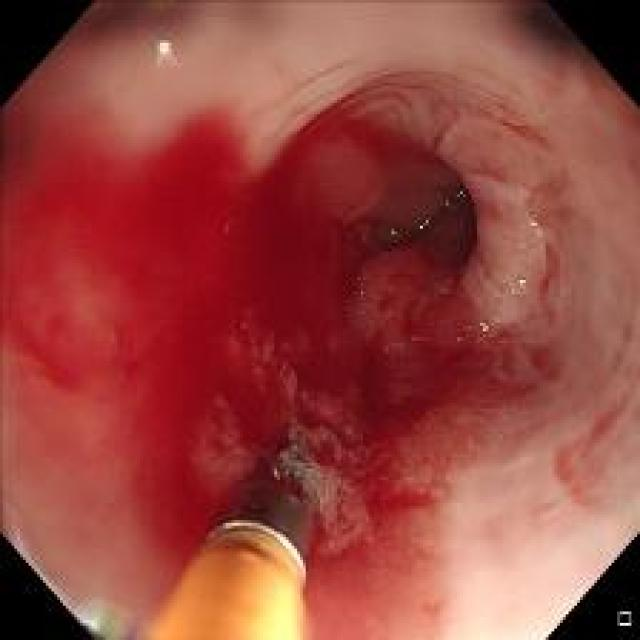blood: (16, 101, 531, 569)
color misalignment: (11, 539, 134, 631)
instrument: (146, 420, 326, 632)
specularity: (150, 34, 178, 74)
